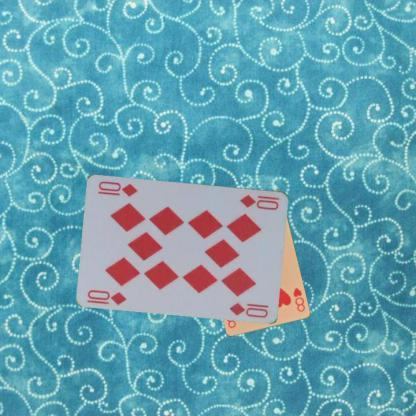10d: (84, 286, 128, 306), (237, 192, 281, 211)
8h: (290, 285, 306, 312)
